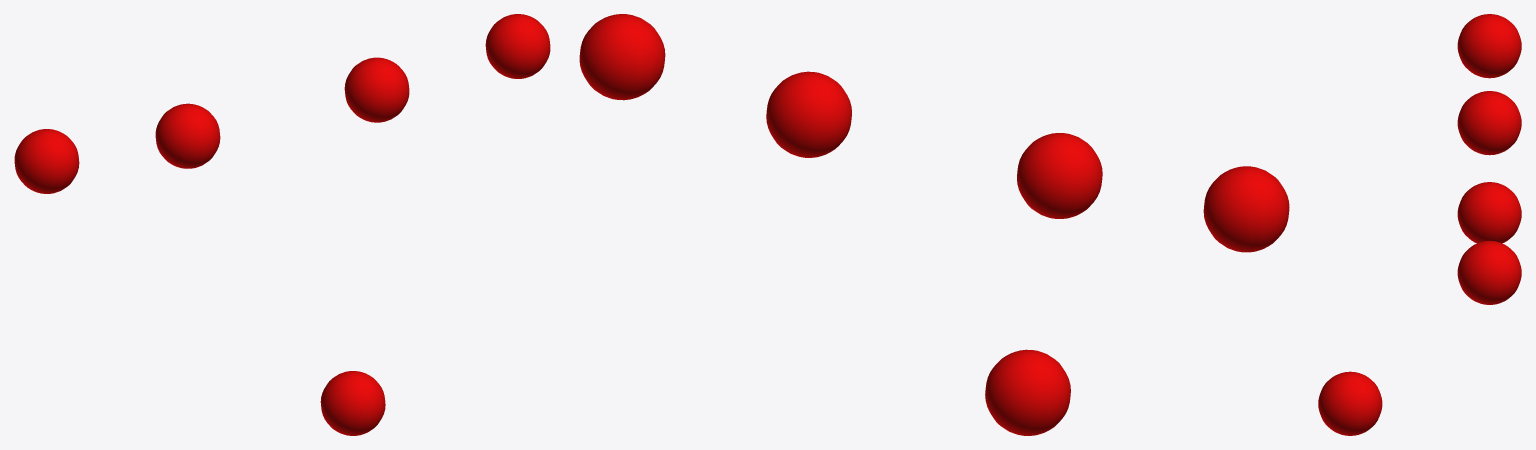
File: five_landmarks_viz.fbx
The picture shows the model from 3 angles, left to right: view 1: azimuth 30°, elevation 25°; view 2: azimuth 150°, elevation 25°; view 3: azimuth 270°, elevation 25°; orthographic projection. The views are drawn at different scales.
Parts seen in each view (by area): view 1: ball1, ball3, ball0, ball2, ball4; view 2: ball4, ball0, ball1, ball2, ball3; view 3: ball2, ball4, ball0, ball3, ball1.
Boxes of the visible parts, x1=… form: ball1: x1=344, y1=57, x2=409, y2=122; ball3: x1=155, y1=103, x2=220, y2=168; ball0: x1=485, y1=14, x2=550, y2=78; ball2: x1=14, y1=129, x2=79, y2=193; ball4: x1=320, y1=371, x2=385, y2=435; ball4: x1=985, y1=349, x2=1070, y2=435; ball0: x1=579, y1=14, x2=665, y2=100; ball1: x1=766, y1=71, x2=851, y2=157; ball2: x1=1203, y1=166, x2=1289, y2=252; ball3: x1=1017, y1=133, x2=1102, y2=218; ball2: x1=1457, y1=14, x2=1521, y2=78; ball4: x1=1318, y1=371, x2=1382, y2=435; ball0: x1=1457, y1=240, x2=1521, y2=304; ball3: x1=1457, y1=91, x2=1521, y2=155; ball1: x1=1457, y1=182, x2=1521, y2=243.
Bounding box in the file's own units: 5.33 × 2.96 × 1.81.
